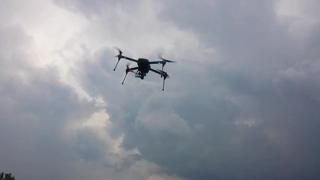UAV: (112, 46, 178, 91)
